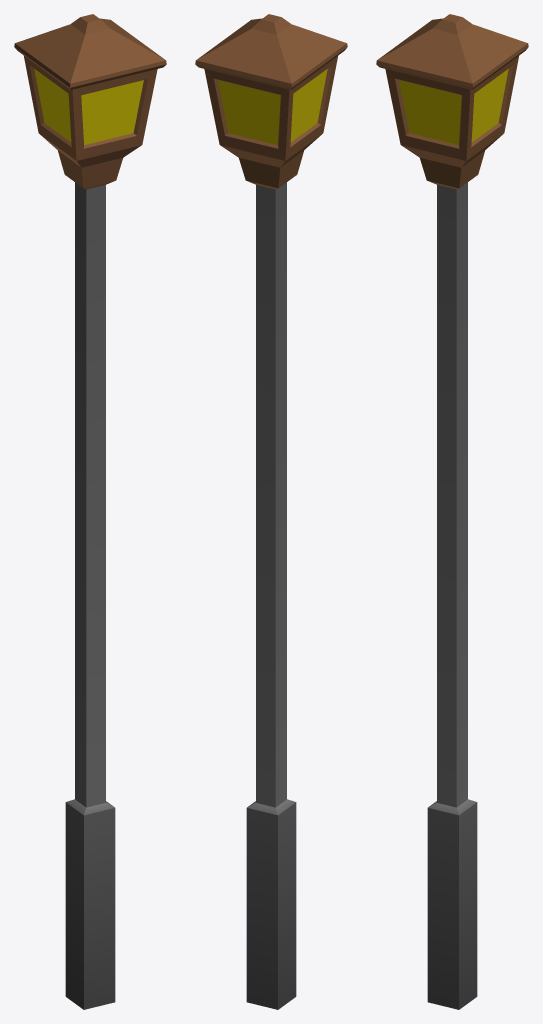
File: ParkLamp_1.fbx
3 views of the same model, side by side, from view 1: azimuth 30°, elevation 25°; view 2: azimuth 150°, elevation 25°; view 3: azimuth 330°, elevation 25° (orthographic).
Parts seen in each view (by area): view 1: ParkLamp_1; view 2: ParkLamp_1; view 3: ParkLamp_1.
Boxes of the visible parts, left/top/right/bottom form: ParkLamp_1: left=14, top=14, right=166, bottom=1009; ParkLamp_1: left=195, top=14, right=347, bottom=1009; ParkLamp_1: left=376, top=14, right=528, bottom=1009.
Bounding box in the file's own units: 0.4282 × 0.4282 × 4.15.
